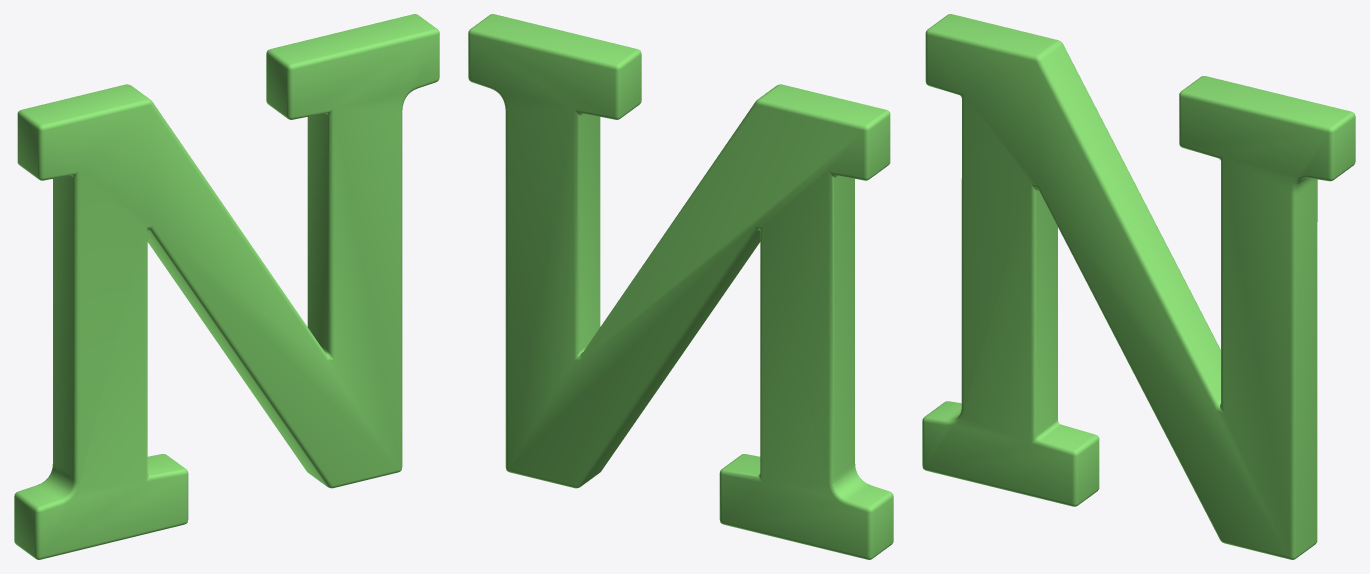
The picture shows the model from 3 angles, left to right: view 1: azimuth 30°, elevation 25°; view 2: azimuth 150°, elevation 25°; view 3: azimuth 330°, elevation 25°; orthographic projection.
Visible parts, largest first — view 1: 텍스트; view 2: 텍스트; view 3: 텍스트.
Part boxes in pixels (<box>): 텍스트: <box>14,14,439,559</box>; 텍스트: <box>468,14,893,559</box>; 텍스트: <box>922,14,1355,559</box>.
Bounding box in the file's own units: 0.4772 × 0.4897 × 0.05.
